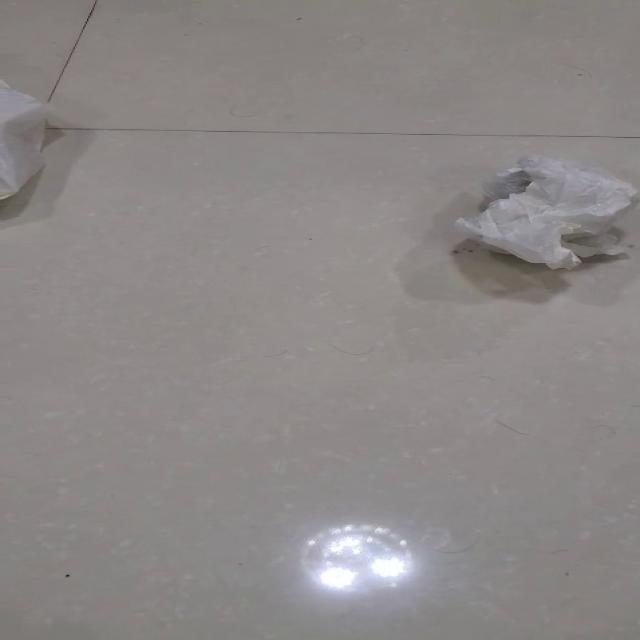plastic: (454, 154, 636, 270), (0, 79, 47, 200)
